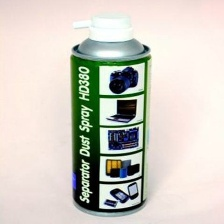aerosol_cans: (65, 9, 154, 218)
